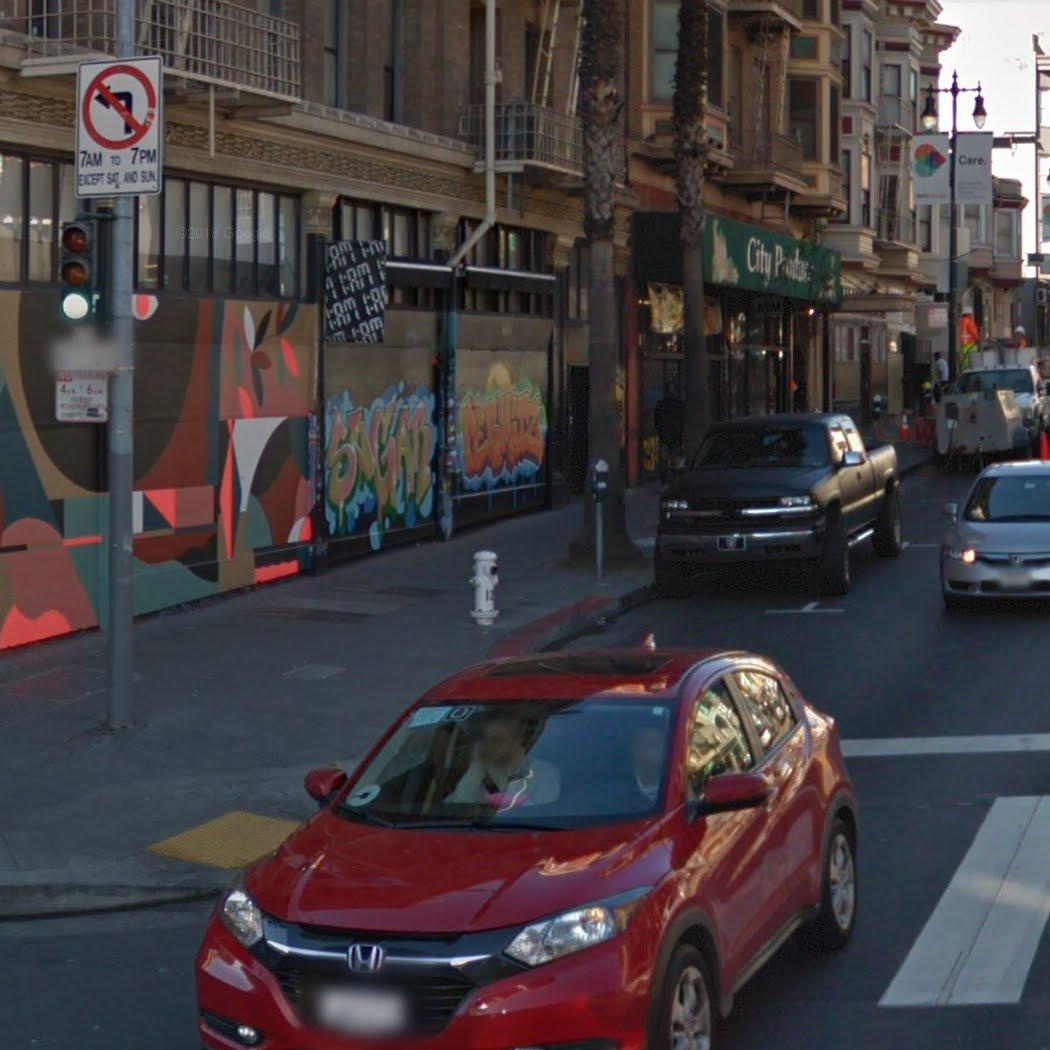No Parking: (53, 340, 112, 423)
